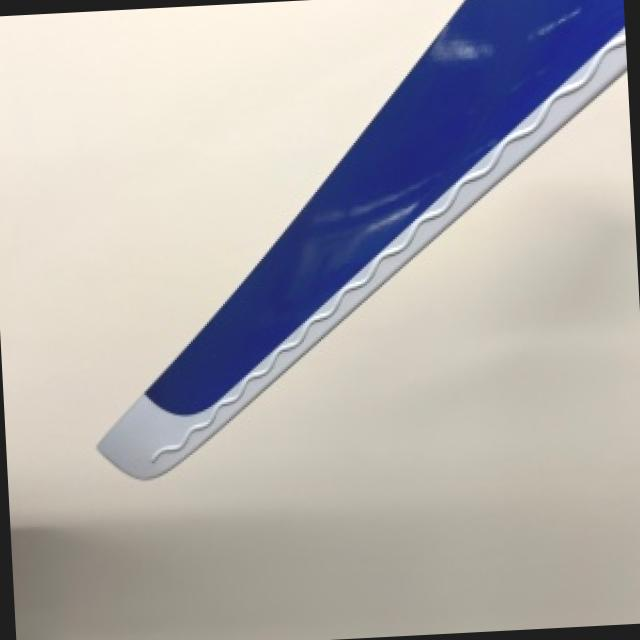healthy: (102, 0, 627, 473)
